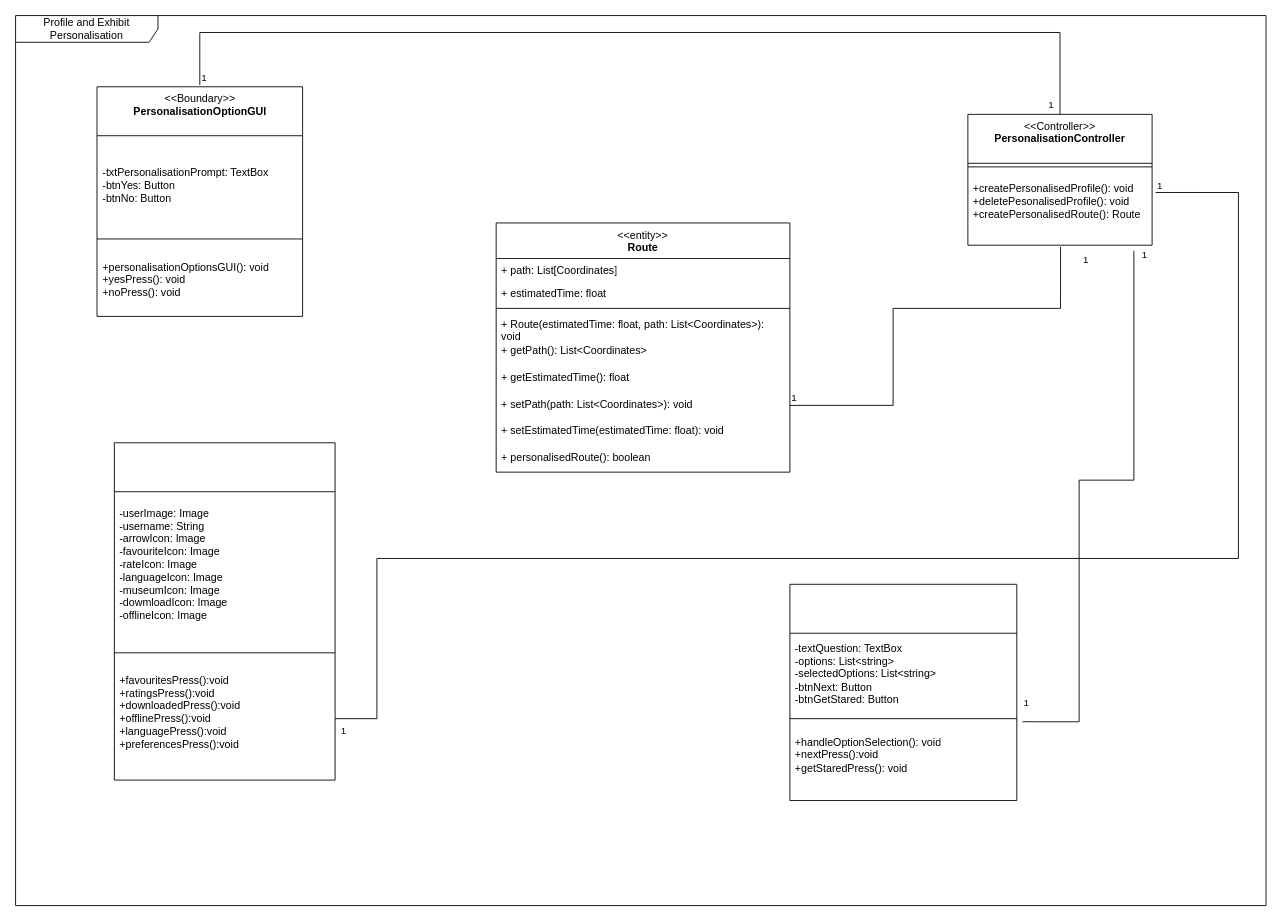
Some shapes in this 1282 by 921 pixel diagram are drawn without their labels. Each missing label, with the box of its shape:
<<Boundary>> ProfileGUI: (113, 442, 335, 780)
<<Boundary>> QuestionnaireGUI: (789, 583, 1017, 801)
